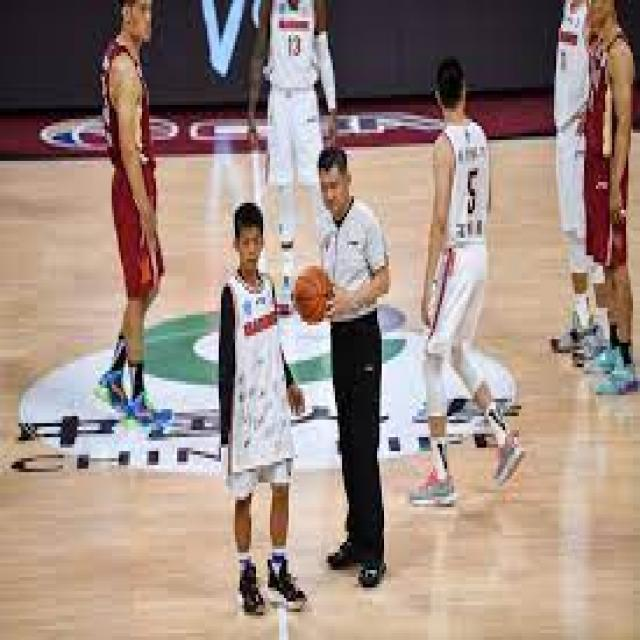rim: (296, 270, 330, 326)
